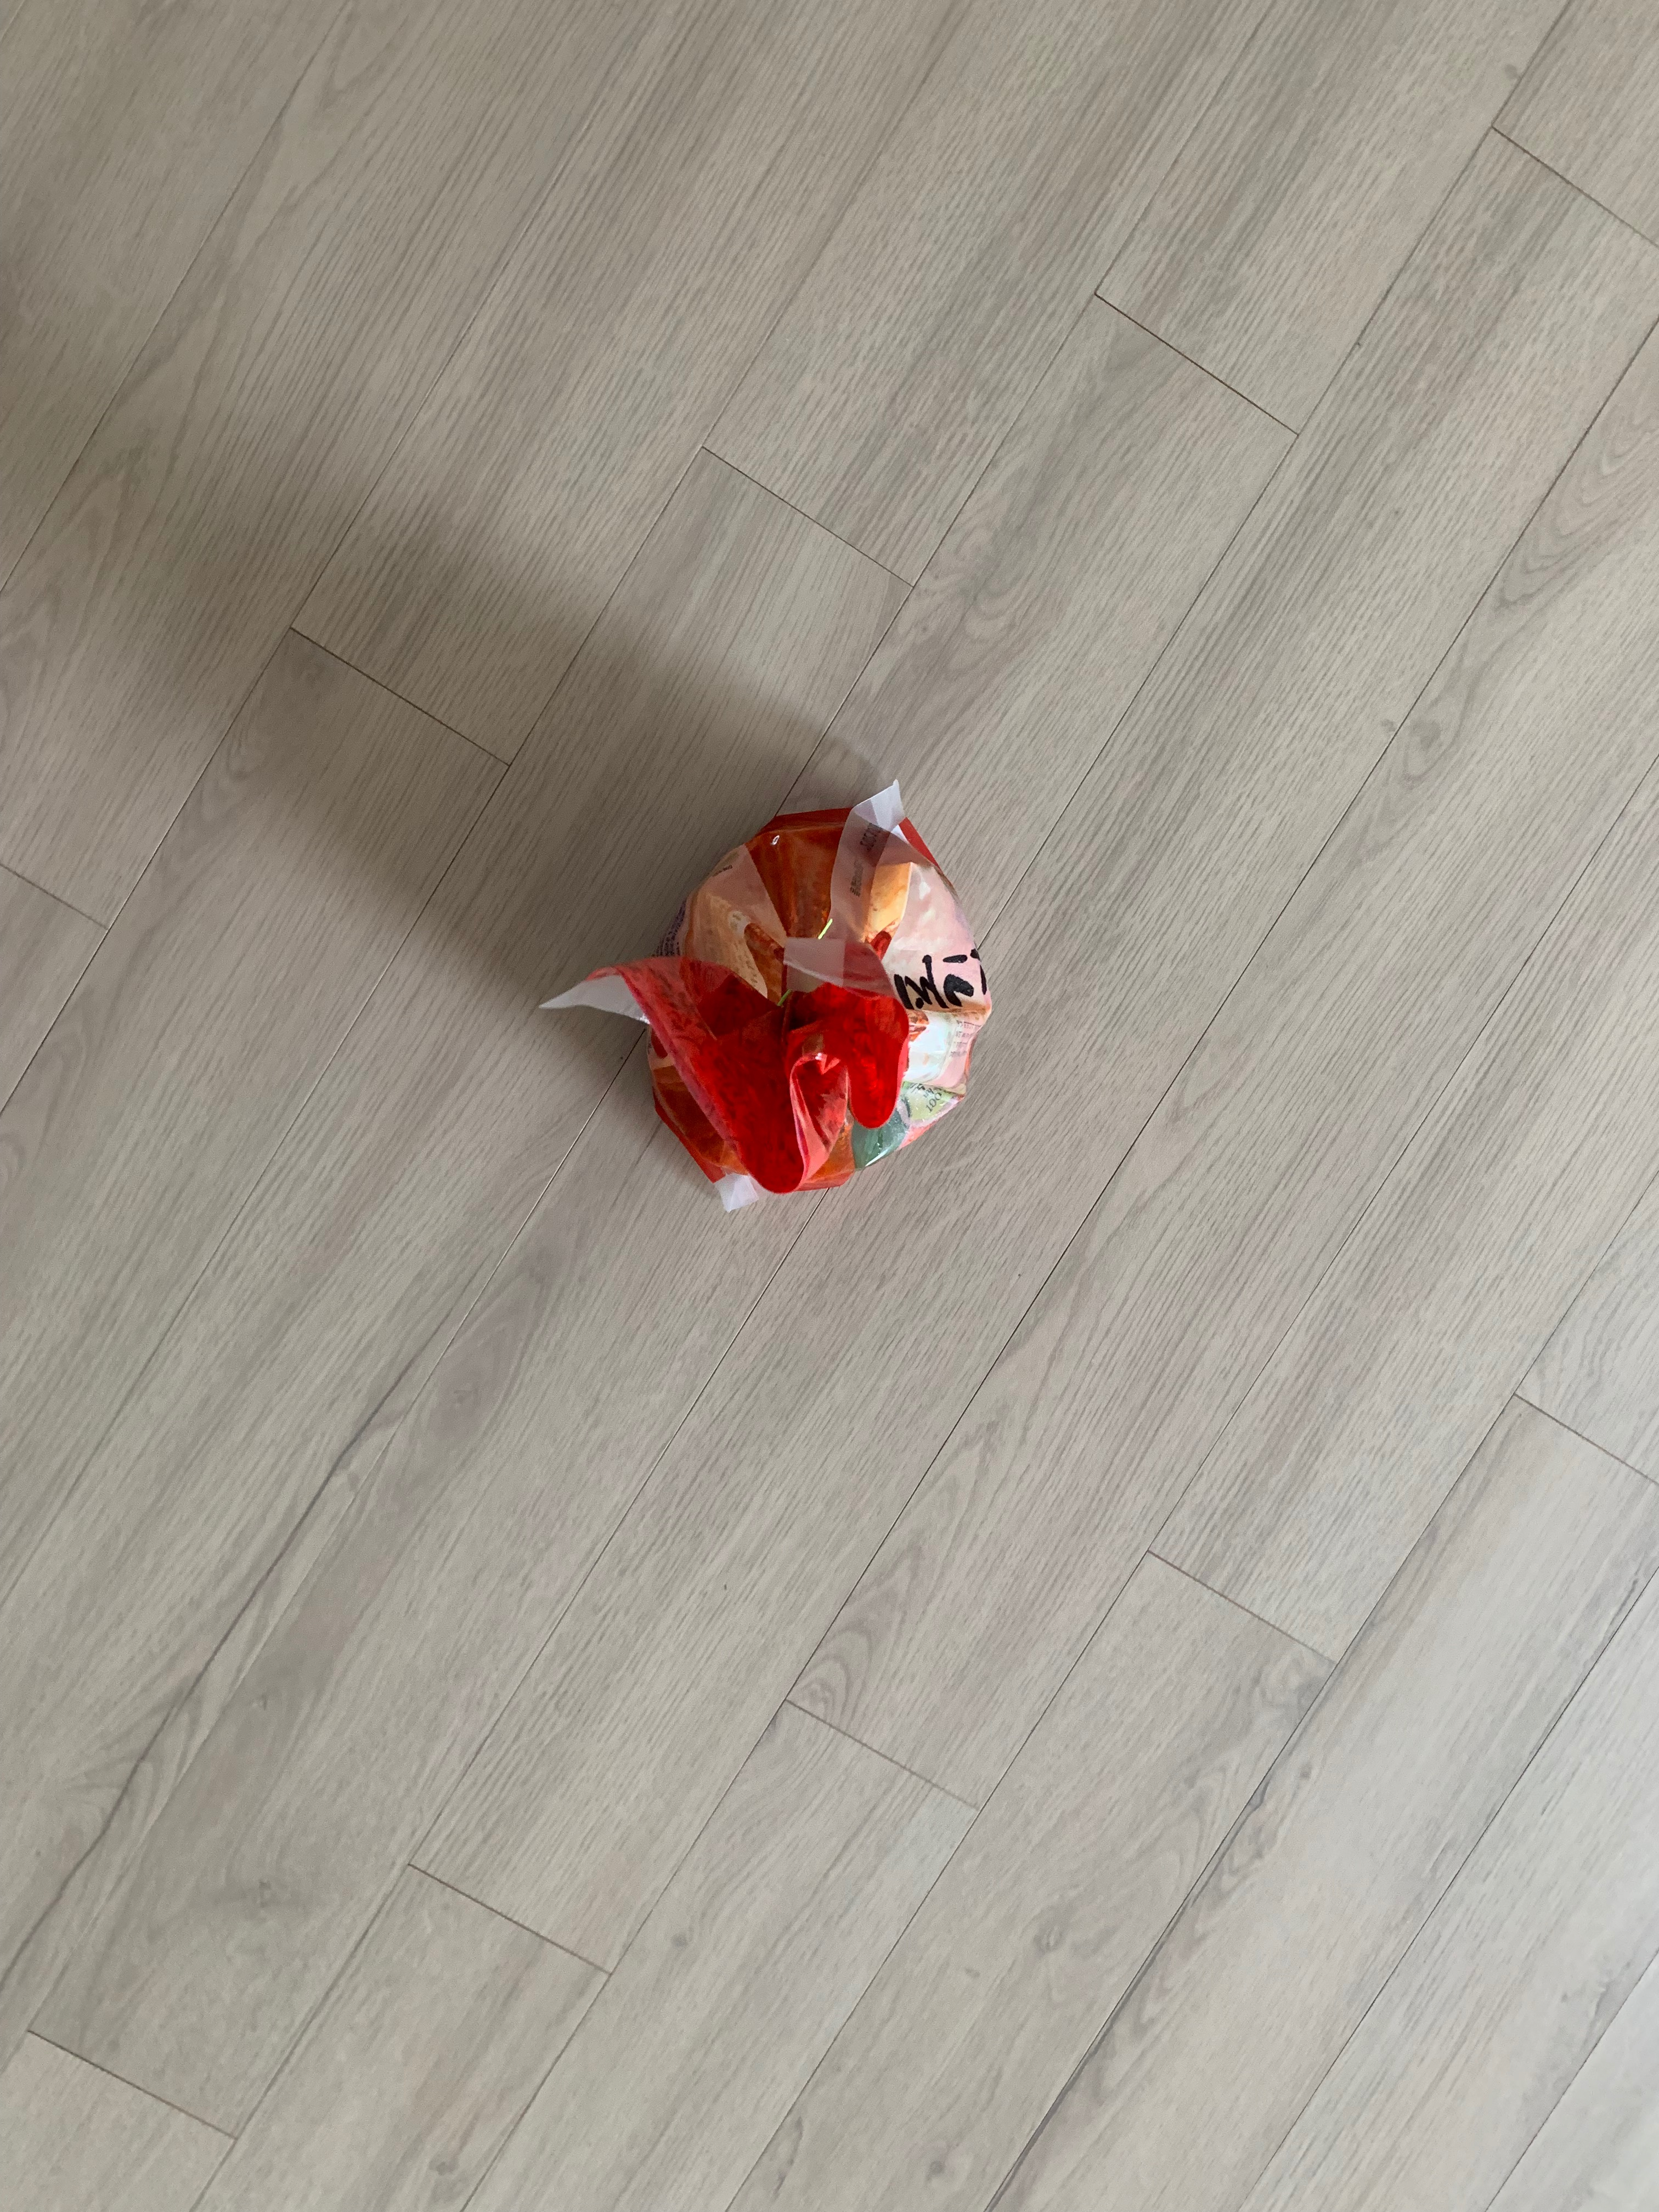kimchi: (629, 806, 997, 1202)
